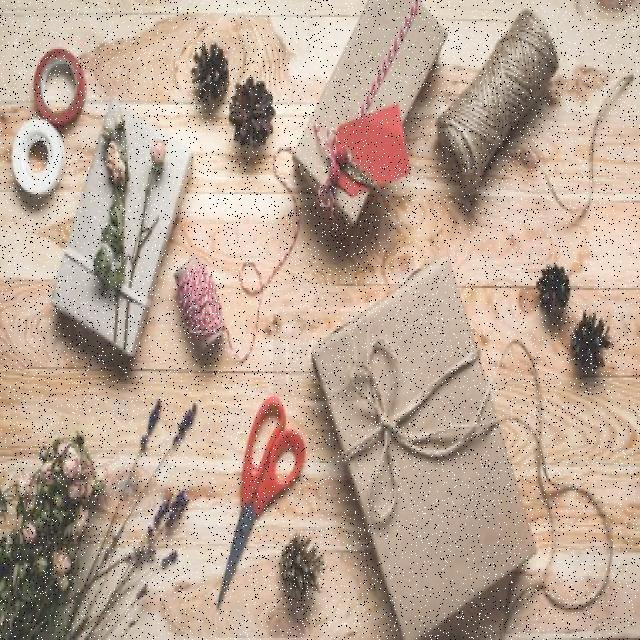scissors: (214, 393, 310, 622)
